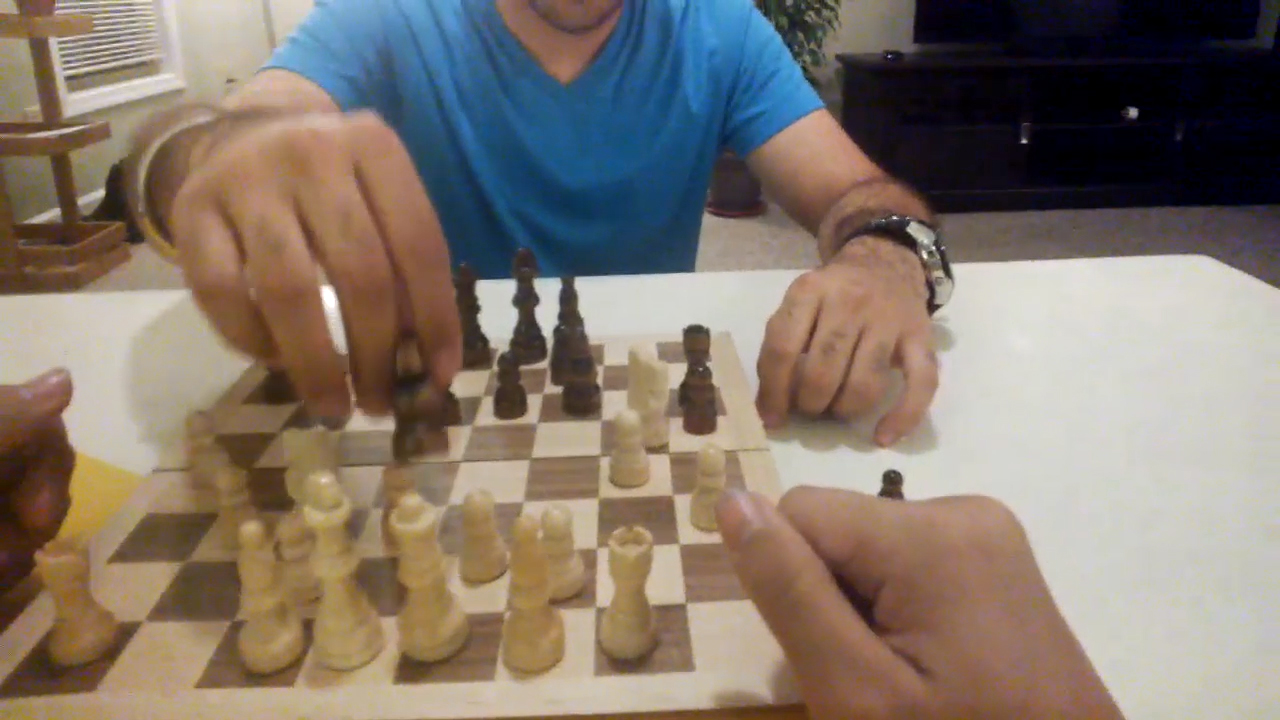hand: (712, 486, 1132, 717), (176, 120, 464, 438), (758, 266, 935, 438), (4, 366, 73, 600)
